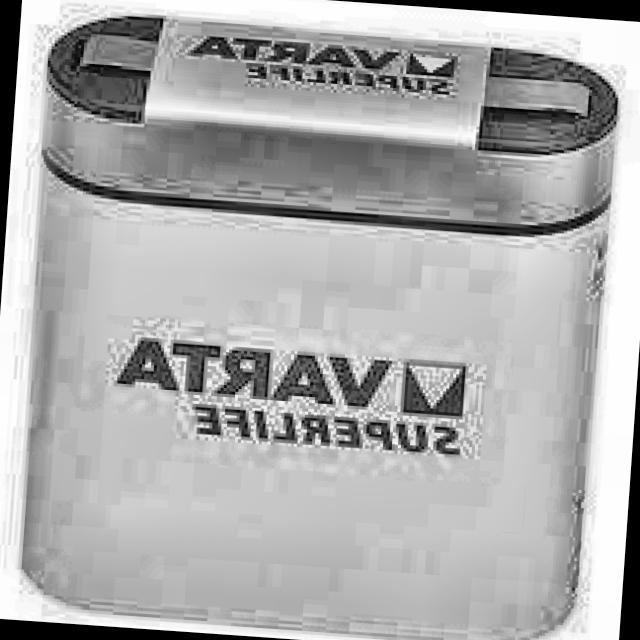Battery: (11, 7, 615, 640)
